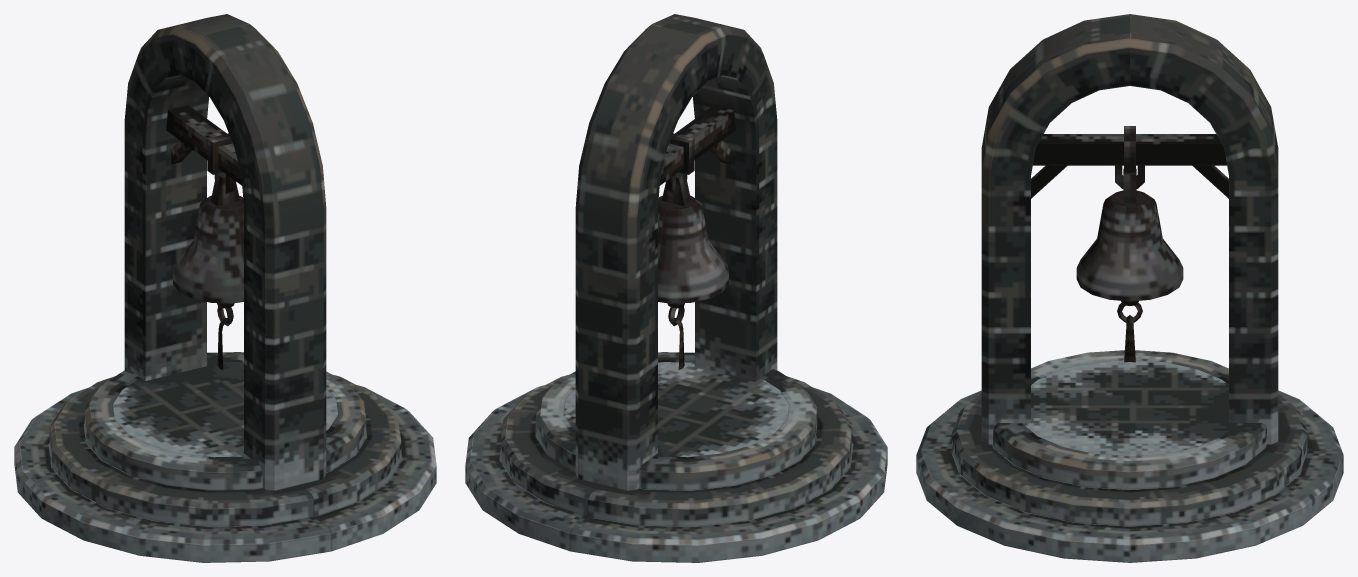
Rendered from EnvObjMD_Bell_WarningBell.FBX.
3 views of the same model, side by side, from view 1: azimuth 30°, elevation 25°; view 2: azimuth 150°, elevation 25°; view 3: azimuth 270°, elevation 25° (orthographic).
Parts seen in each view (by area): view 1: EnvObjMD_Bell_WarningBell; view 2: EnvObjMD_Bell_WarningBell; view 3: EnvObjMD_Bell_WarningBell.
Part boxes in pixels (x1,y1,x2,y2): EnvObjMD_Bell_WarningBell: (14,14,436,562); EnvObjMD_Bell_WarningBell: (465,14,887,562); EnvObjMD_Bell_WarningBell: (916,14,1343,562).
Size of the model in its own units: 360 by 415 by 360.
1 material, 1 textured.
